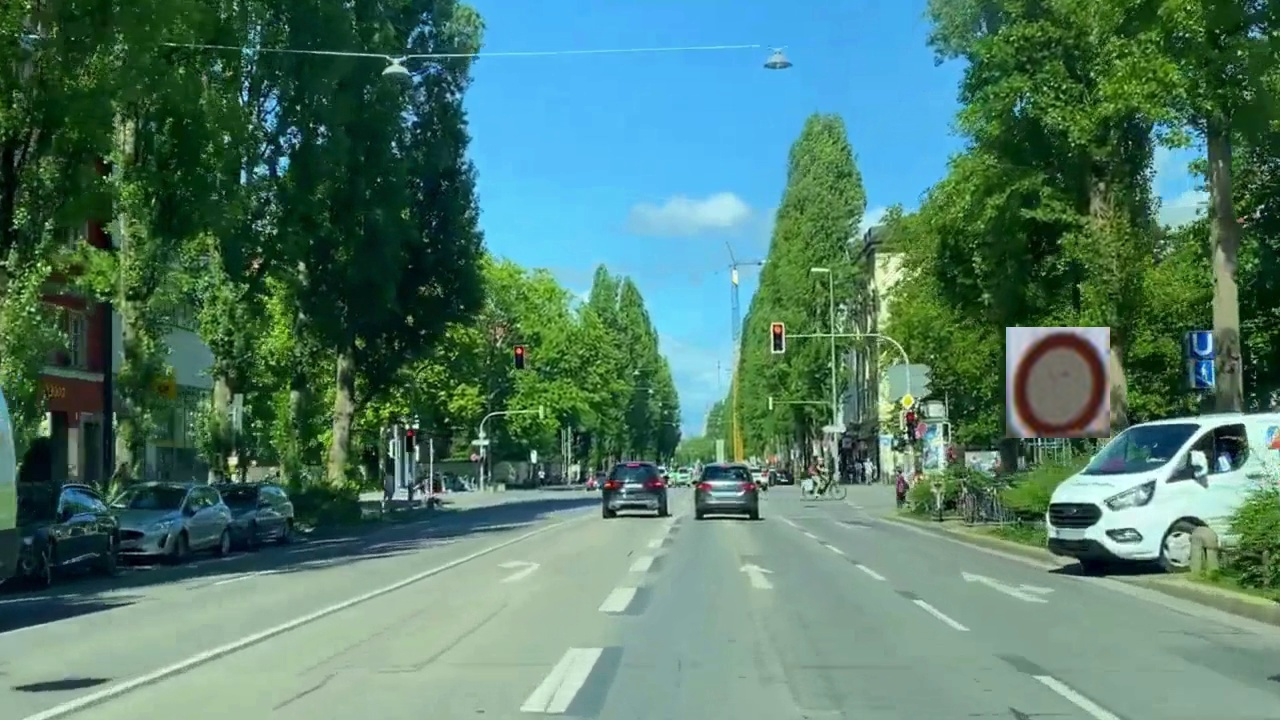No vehicles: (1006, 327, 1110, 438)
